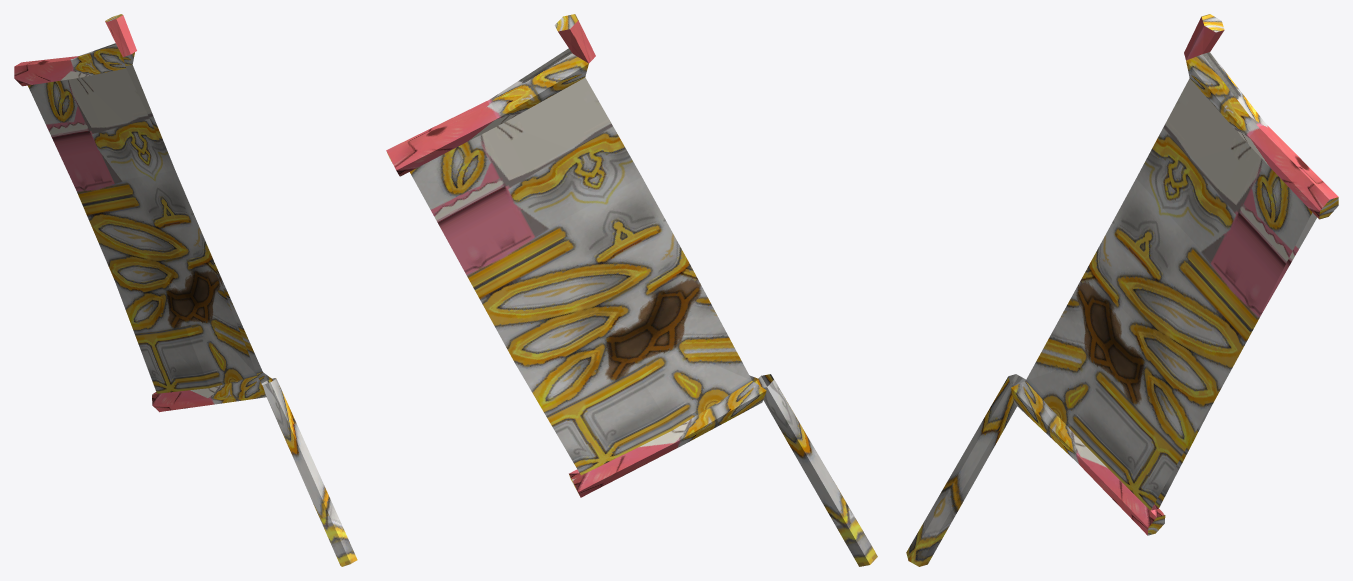
File: Rabbit_championFlag.obj
3 views of the same model, side by side, from view 1: azimuth 90°, elevation 25°; view 2: azimuth 150°, elevation 25°; view 3: azimuth 270°, elevation 25° (orthographic). The views are drawn at different scales.
Visible parts, largest first — view 1: Rabbit_championFlag_tri; view 2: Rabbit_championFlag_tri; view 3: Rabbit_championFlag_tri.
Boxes of the visible parts, x1=… form: Rabbit_championFlag_tri: x1=14, y1=14, x2=357, y2=566; Rabbit_championFlag_tri: x1=386, y1=14, x2=877, y2=566; Rabbit_championFlag_tri: x1=906, y1=14, x2=1338, y2=566.
Bounding box in the file's own units: 0.513 × 1.05 × 0.662.
1 material, 1 textured.
